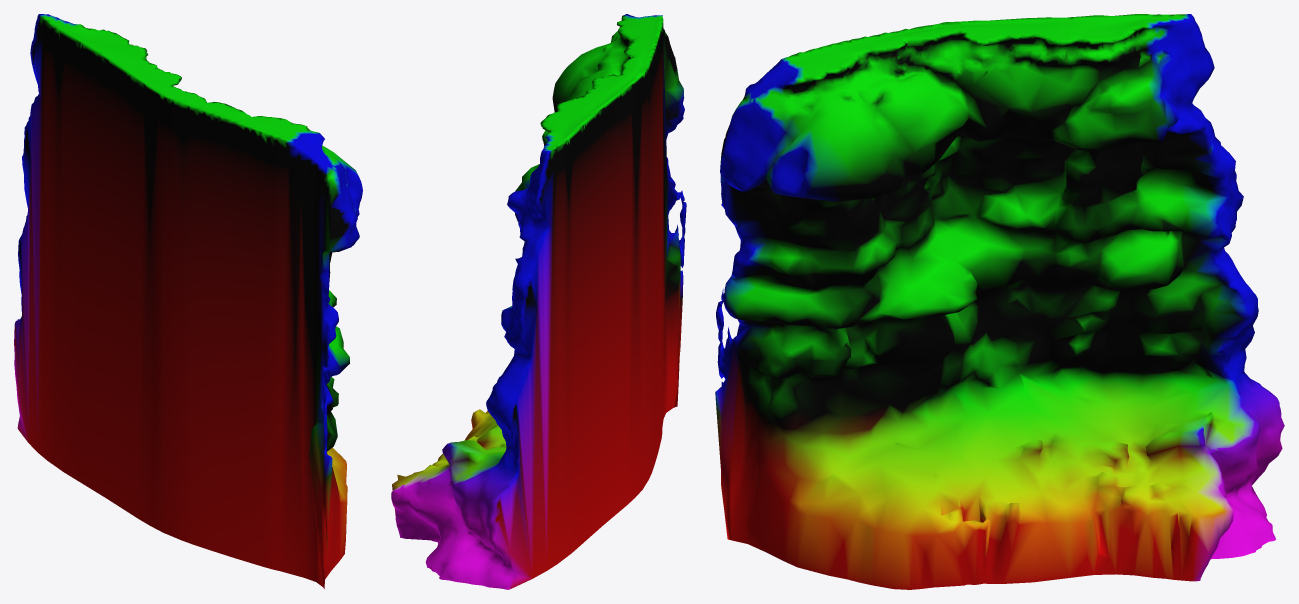
File: desert-xl-a.glb
3 renders of one model, left to right at view 1: azimuth 30°, elevation 25°; view 2: azimuth 150°, elevation 25°; view 3: azimuth 270°, elevation 25°, orthographic. The views are drawn at different scales.
Visible parts, largest first — view 1: desert-xl-a_lod0; view 2: desert-xl-a_lod0; view 3: desert-xl-a_lod0.
Part boxes in pixels (x1,y1,x2,y2): desert-xl-a_lod0: (14,14,362,588); desert-xl-a_lod0: (391,14,686,589); desert-xl-a_lod0: (715,14,1284,589).
Size of what is drawn, in the model's own units: 9.39 by 22.66 by 24.1.
